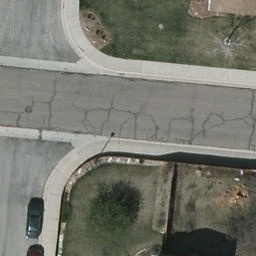car: (26, 203, 45, 240)
